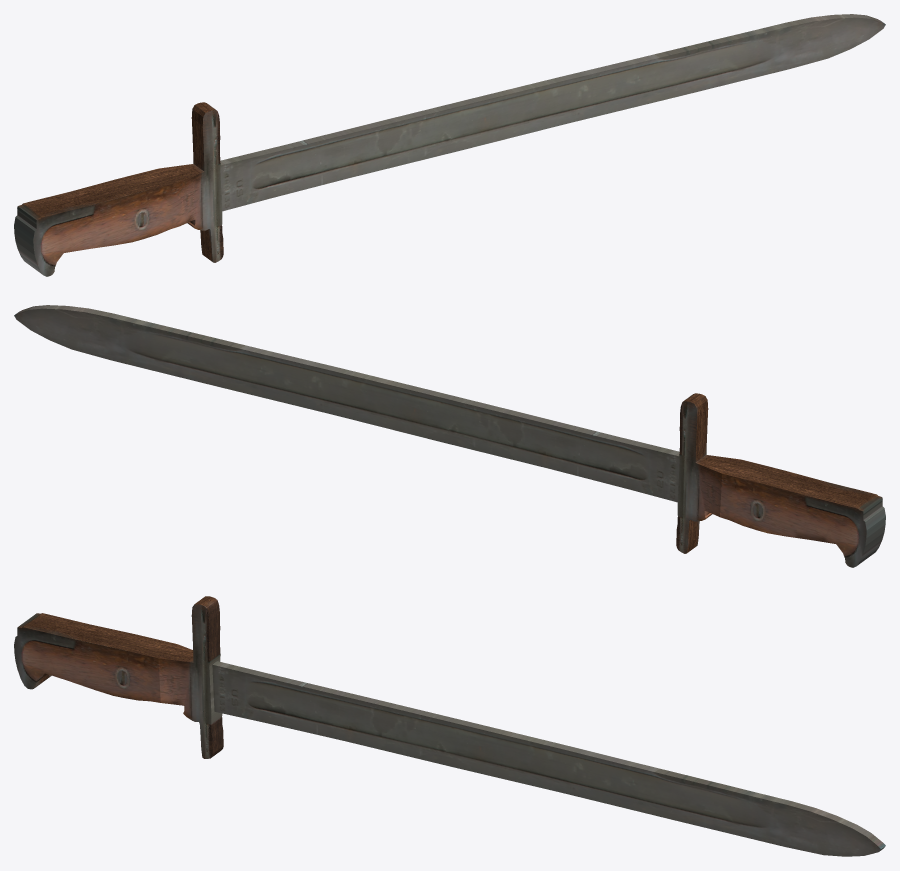
File: sungu.fbx
3 views of the same model, one above another, from view 1: azimuth 30°, elevation 25°; view 2: azimuth 150°, elevation 25°; view 3: azimuth 330°, elevation 25° (orthographic).
Parts seen in each view (by area): view 1: BezierCurve; view 2: BezierCurve; view 3: BezierCurve.
Part boxes in pixels (x1,y1,x2,y2): BezierCurve: [14, 14, 885, 276]; BezierCurve: [14, 305, 885, 567]; BezierCurve: [14, 596, 885, 856].
Size of the model in its own units: 437 by 74.39 by 16.98.
Materials: 1 (1 with a texture image).
